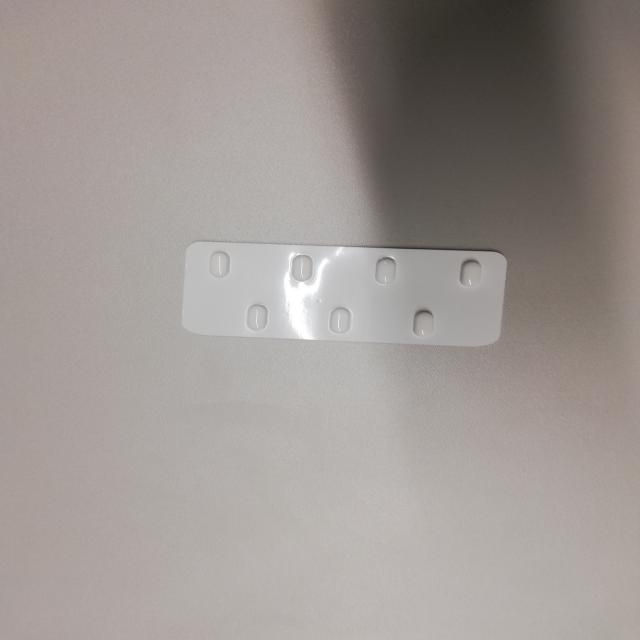Pill: (284, 247, 320, 288), (455, 250, 489, 293), (407, 303, 441, 342), (324, 300, 356, 339), (202, 243, 233, 282), (370, 248, 400, 288), (243, 297, 272, 336)
